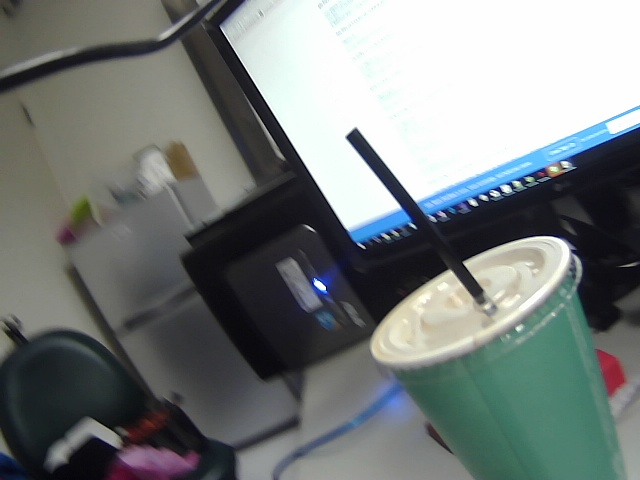beverage: (302, 119, 634, 480)
